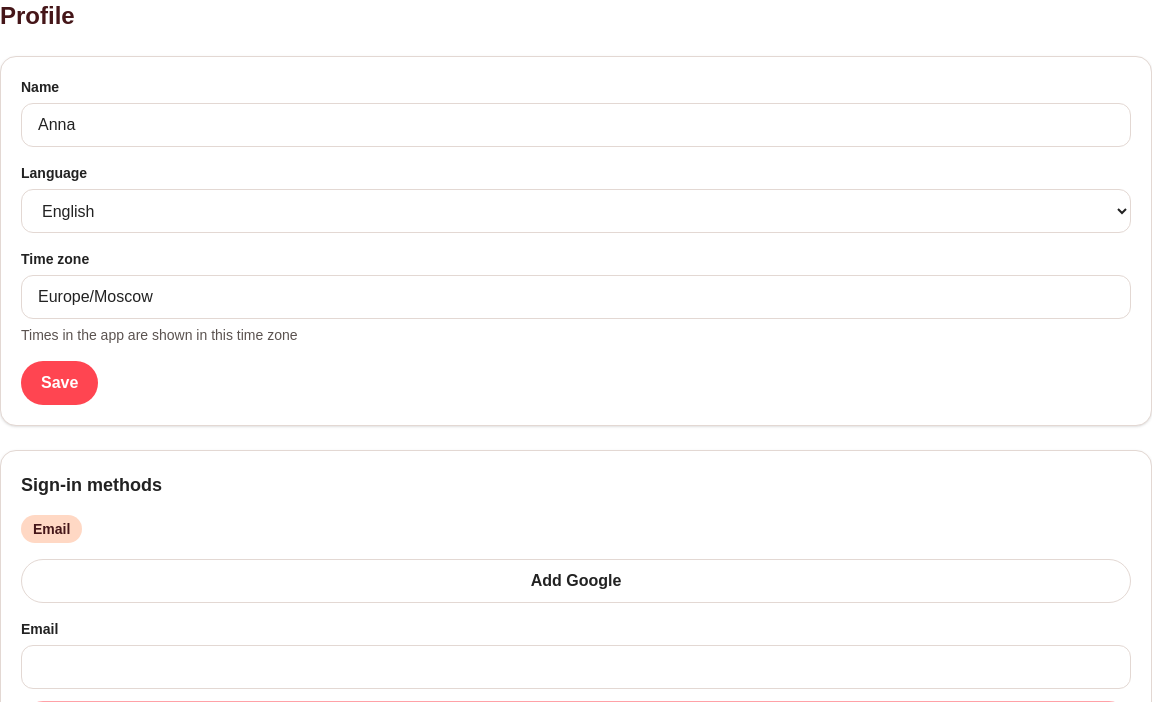
Test: ProfileView › switches the interface language as soon as the profile is saved
Select "Русский" in the dropdown labelled "Language" at (576,211), box [21, 189, 1131, 233]
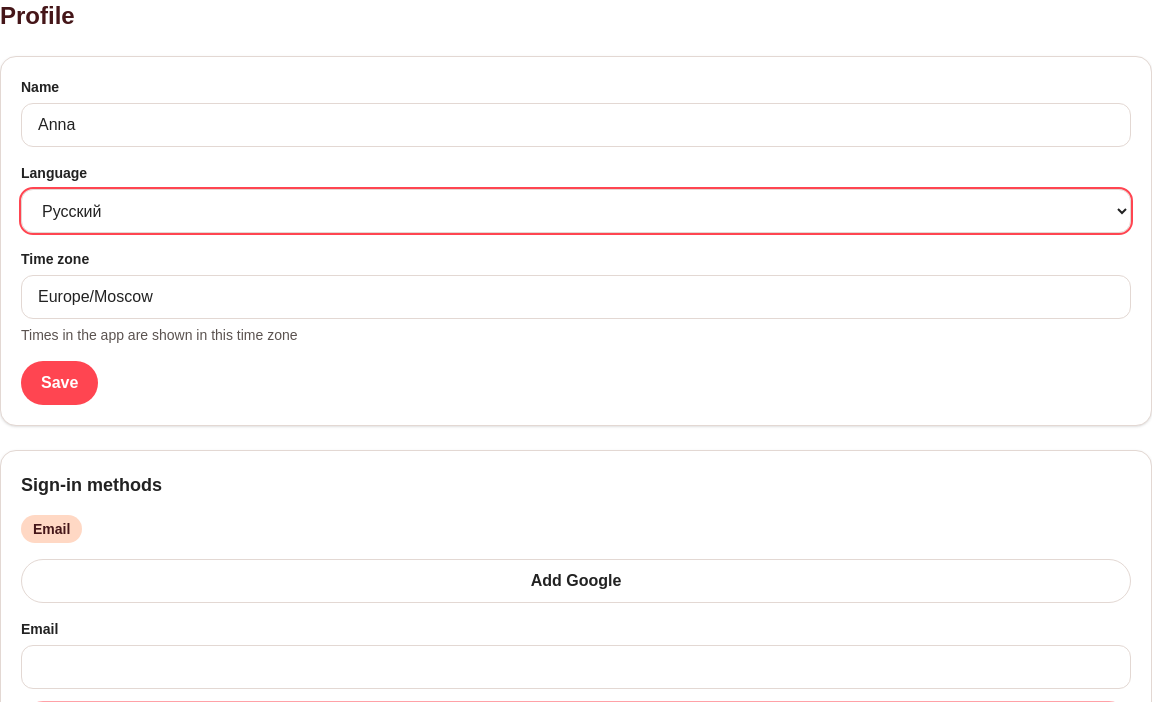
Click the button "Save".
click(60, 383)  # box [21, 361, 98, 405]
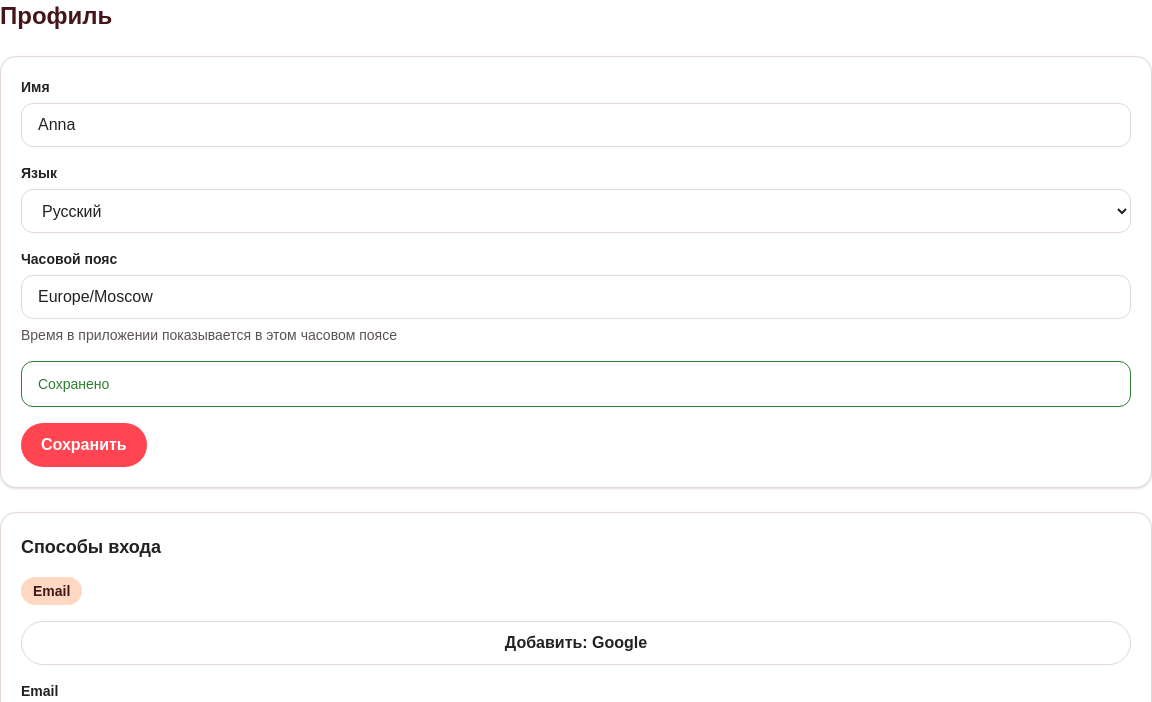
expect the button "Сохранить" is shown: met, box [21, 423, 147, 467]
